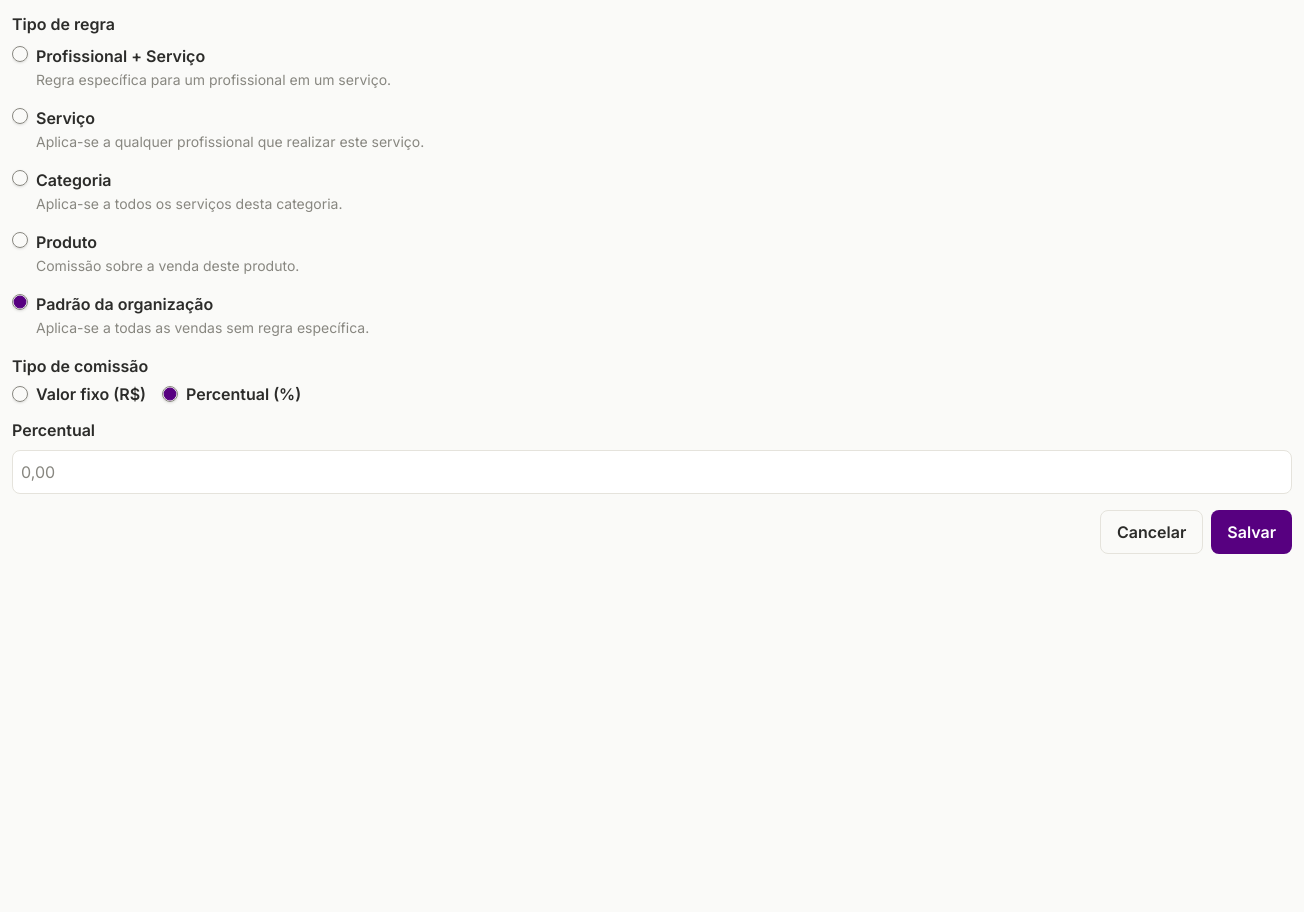
Scenario: CommissionRuleForm › 2. selecting scope service — shows service combobox
This screenshot has width=1304, height=912.
Click the 2nd radio button named "serviço".
click(20, 116)  # box [12, 108, 28, 124]
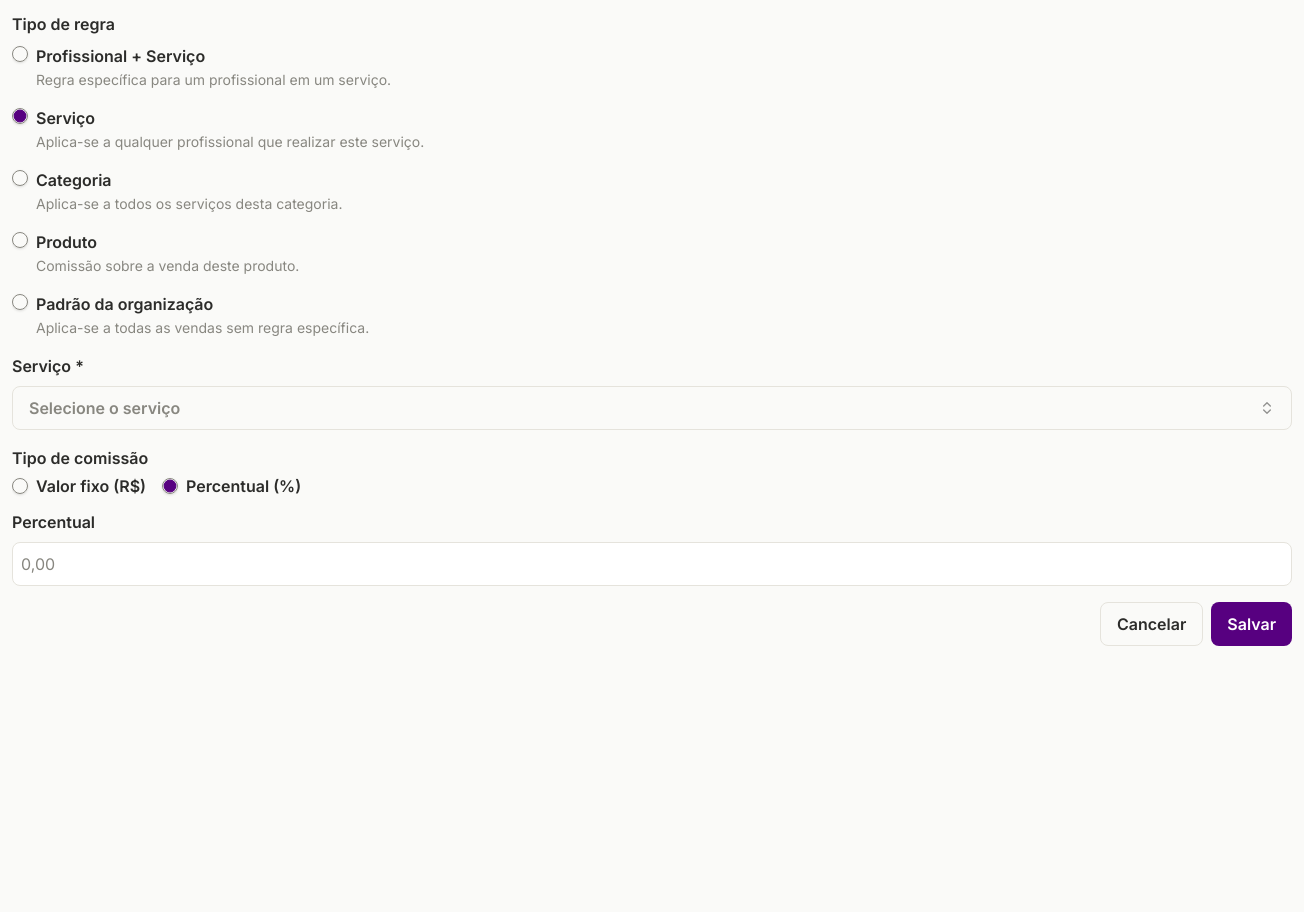
Expected: the text "Selecione o serviço" is shown, [29, 396, 180, 420]
